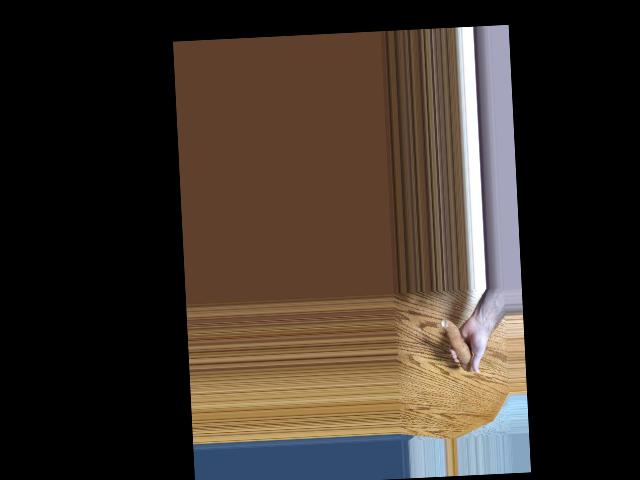sweet_potato: (440, 315, 472, 370)
